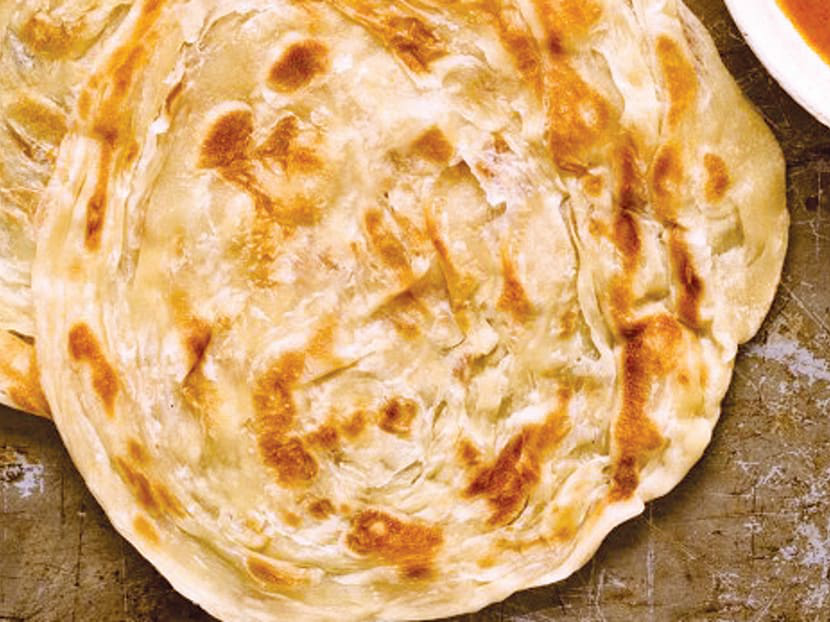Prata: (59, 5, 778, 582)
